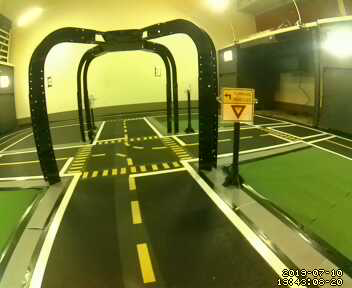Turn Yield: (222, 88, 252, 122)
